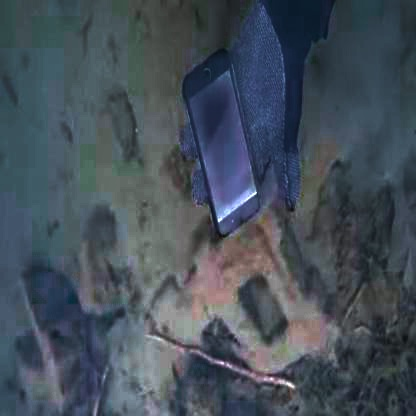cellphone: (183, 46, 262, 235)
